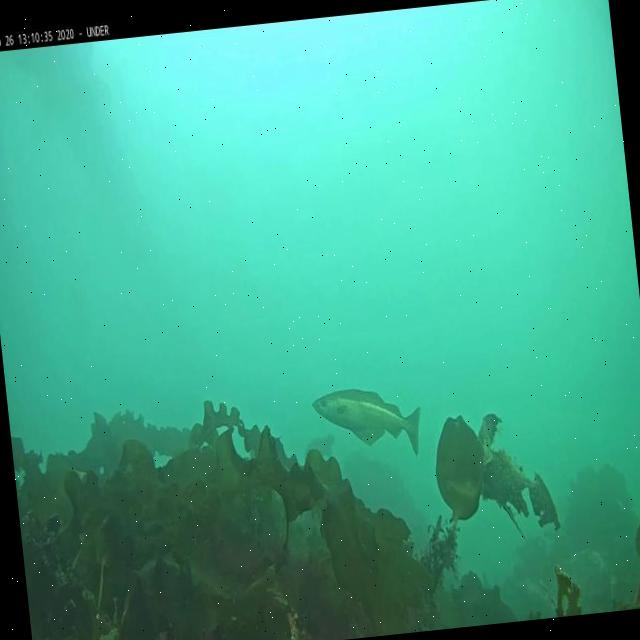fish: (312, 381, 422, 466)
